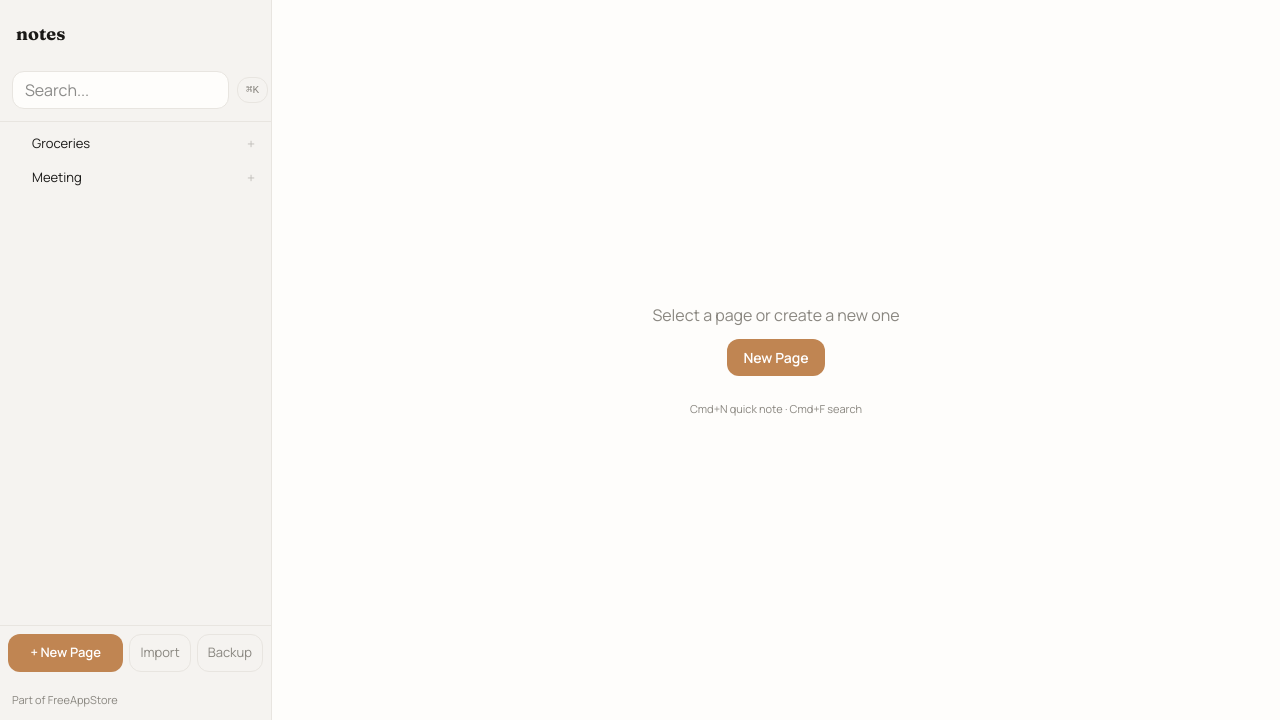
Scenario: App › searches notes by title
The width and height of the screenshot is (1280, 720).
Type "grocer" into the field with placeholder "Search...". click: (120, 90)
box: [12,71,229,109]
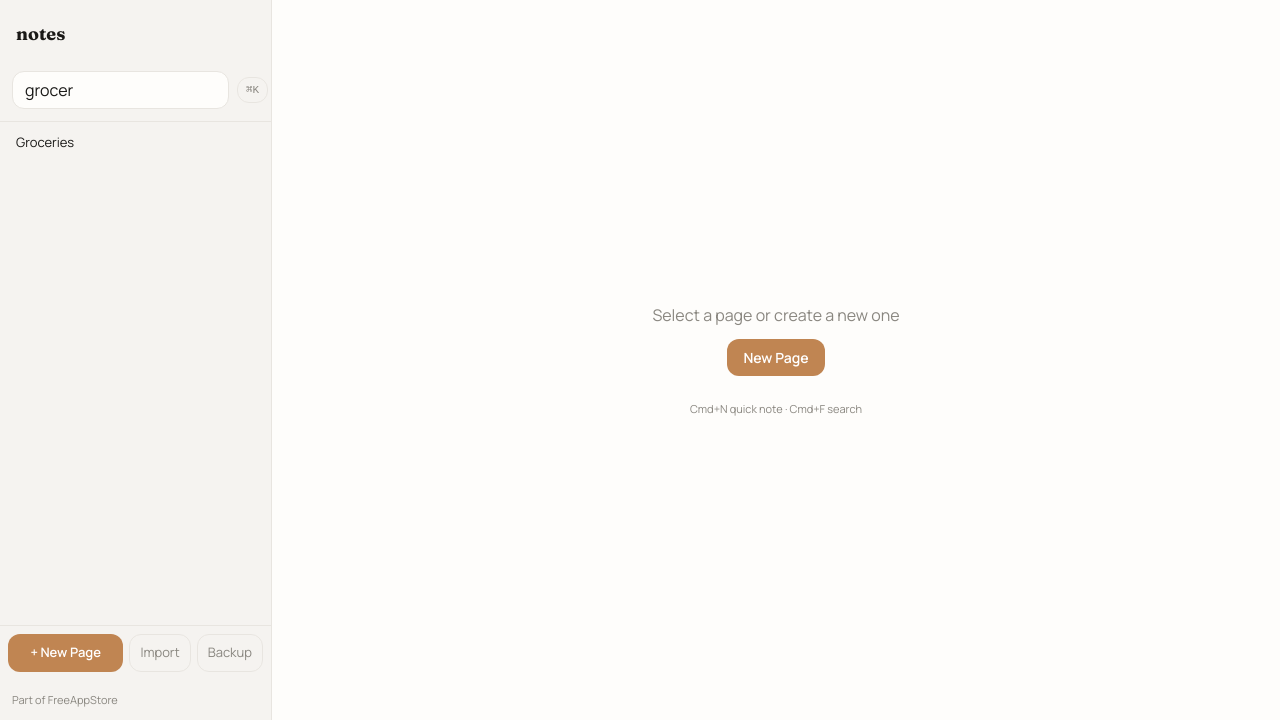
Expected: the text "Meeting" is gone
